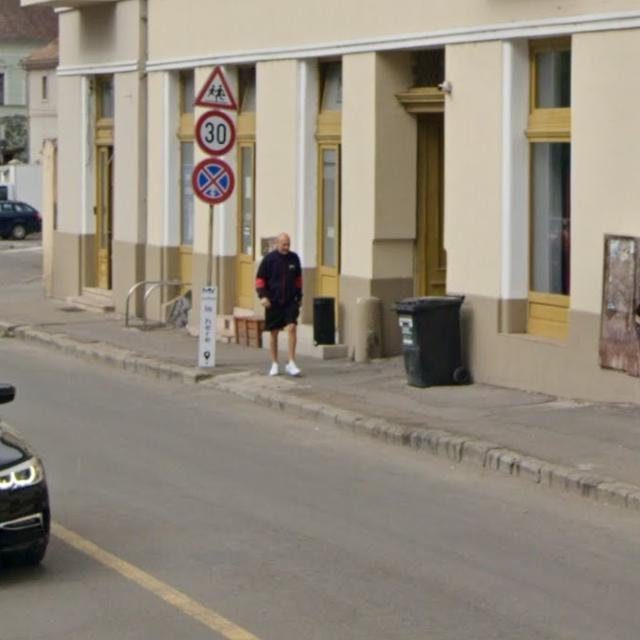forb_speed_over_30: (195, 110, 236, 155)
forb_waiting: (191, 157, 236, 204)
